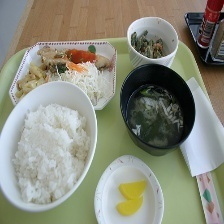sabzi: (129, 25, 167, 60)
